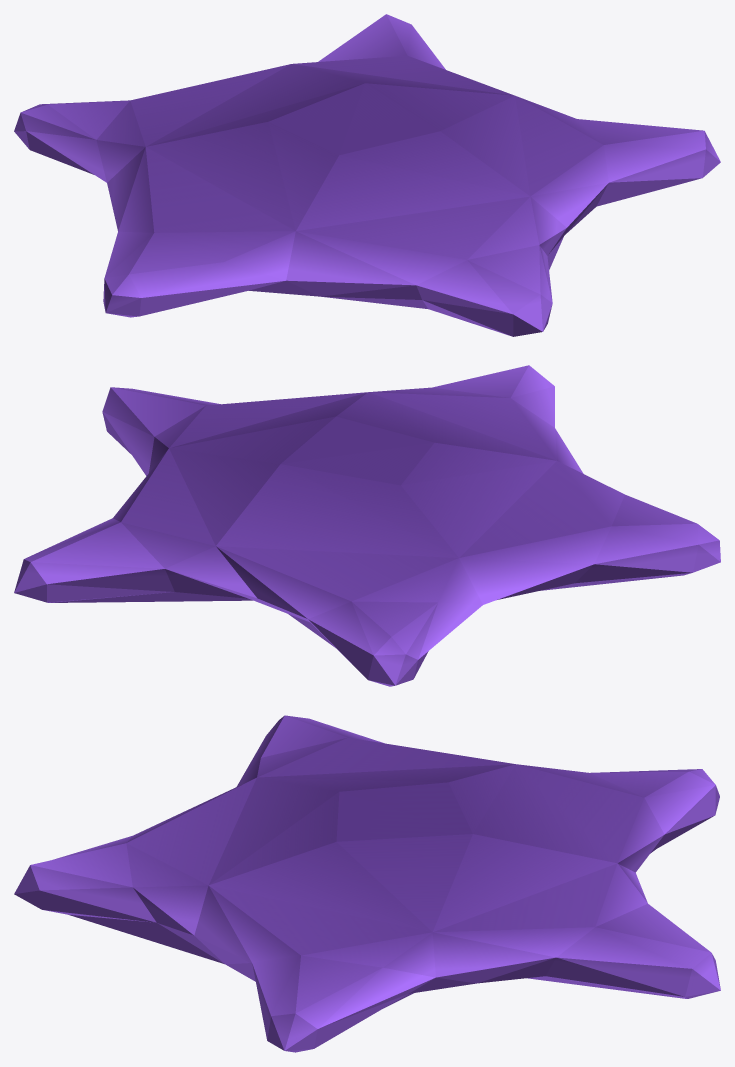
File: SM_Starfish_3.fbx
3 renders of one model, top to bottom at view 1: azimuth 30°, elevation 25°; view 2: azimuth 150°, elevation 25°; view 3: azimuth 270°, elevation 25°, orthographic. The views are drawn at different scales.
Visible parts, largest first — view 1: Starfish_3; view 2: Starfish_3; view 3: Starfish_3.
Boxes of the visible parts, x1,y1,x2,y2 form: Starfish_3: [14, 14, 720, 336]; Starfish_3: [14, 365, 720, 686]; Starfish_3: [14, 715, 720, 1052].
Size of the model in its own units: 24.75 by 3.88 by 23.56.
